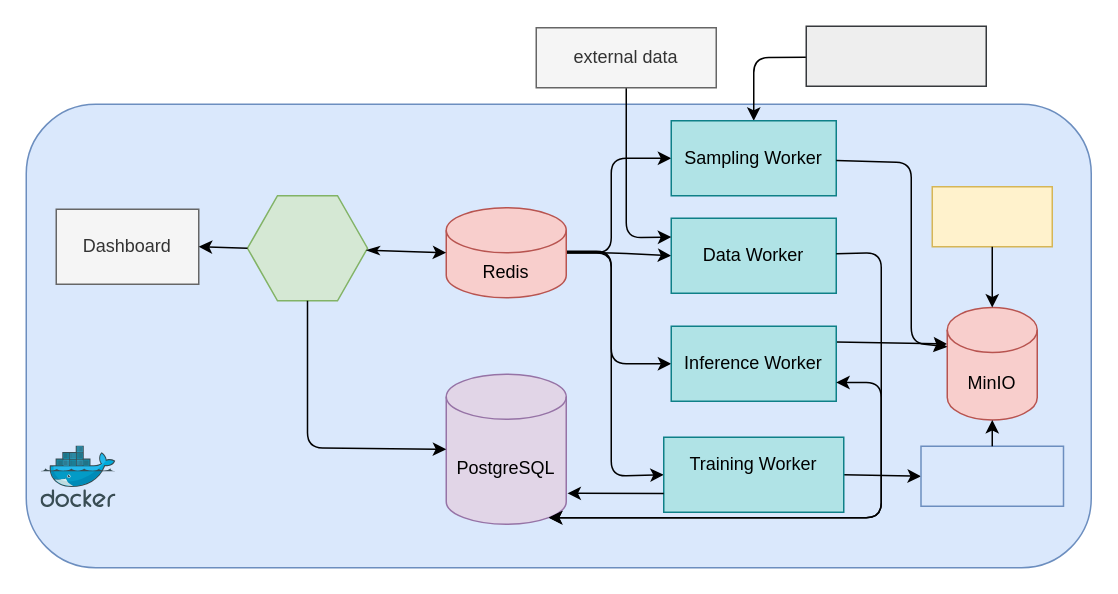
This 1118x594 diagram has some shape labels left out. Each missing label, with the centre of its shape:
API: point 307,247
Camera: point 895,55
Label Std: point 991,216
ML Flow: point 992,475
